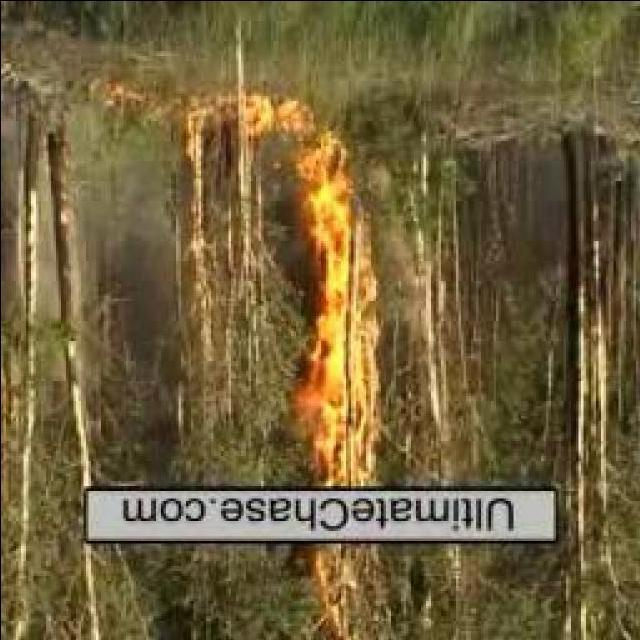Fire: (303, 216, 377, 480), (233, 84, 355, 208), (306, 550, 356, 632)
